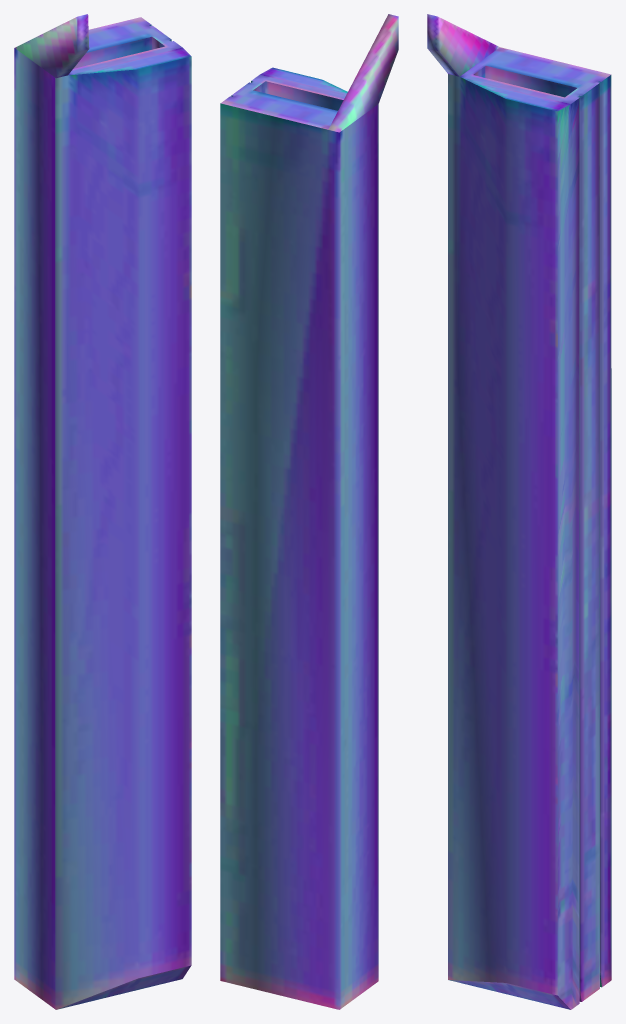
The model's file is debris_01_02.glb.
3 views of the same model, side by side, from view 1: azimuth 30°, elevation 25°; view 2: azimuth 150°, elevation 25°; view 3: azimuth 330°, elevation 25° (orthographic). The views are drawn at different scales.
Visible parts, largest first — view 1: debris_01_02; view 2: debris_01_02; view 3: debris_01_02.
Part boxes in pixels (x1,y1,x2,y2): debris_01_02: [14, 14, 191, 1009]; debris_01_02: [220, 14, 398, 1009]; debris_01_02: [427, 14, 611, 1009].
Size of the model in its own units: 0.2852 by 2.17 by 0.2454.
Materials: 1 (1 with a texture image).
